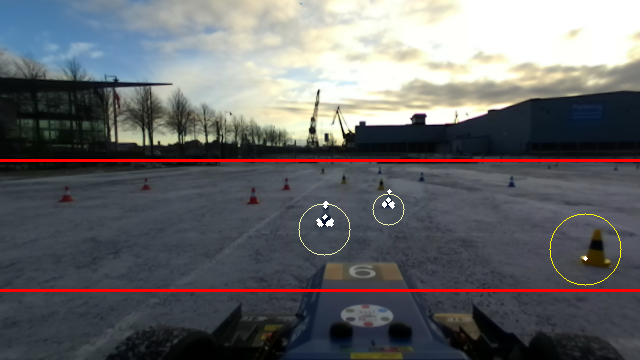blue: (316, 201, 334, 226), (381, 189, 394, 209), (507, 176, 515, 190), (417, 170, 426, 182)
orange: (57, 184, 74, 204), (245, 187, 260, 204), (280, 177, 292, 192), (139, 178, 150, 191)
yellow: (579, 227, 610, 269), (337, 173, 349, 186), (376, 179, 385, 191)
